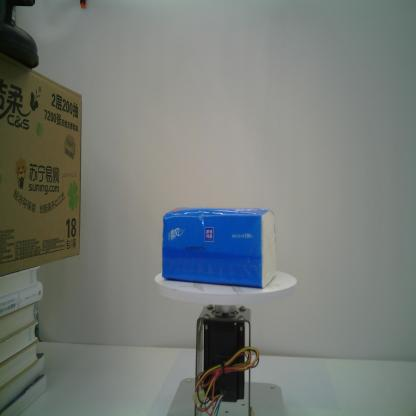Tissue: (160, 205, 276, 290)
